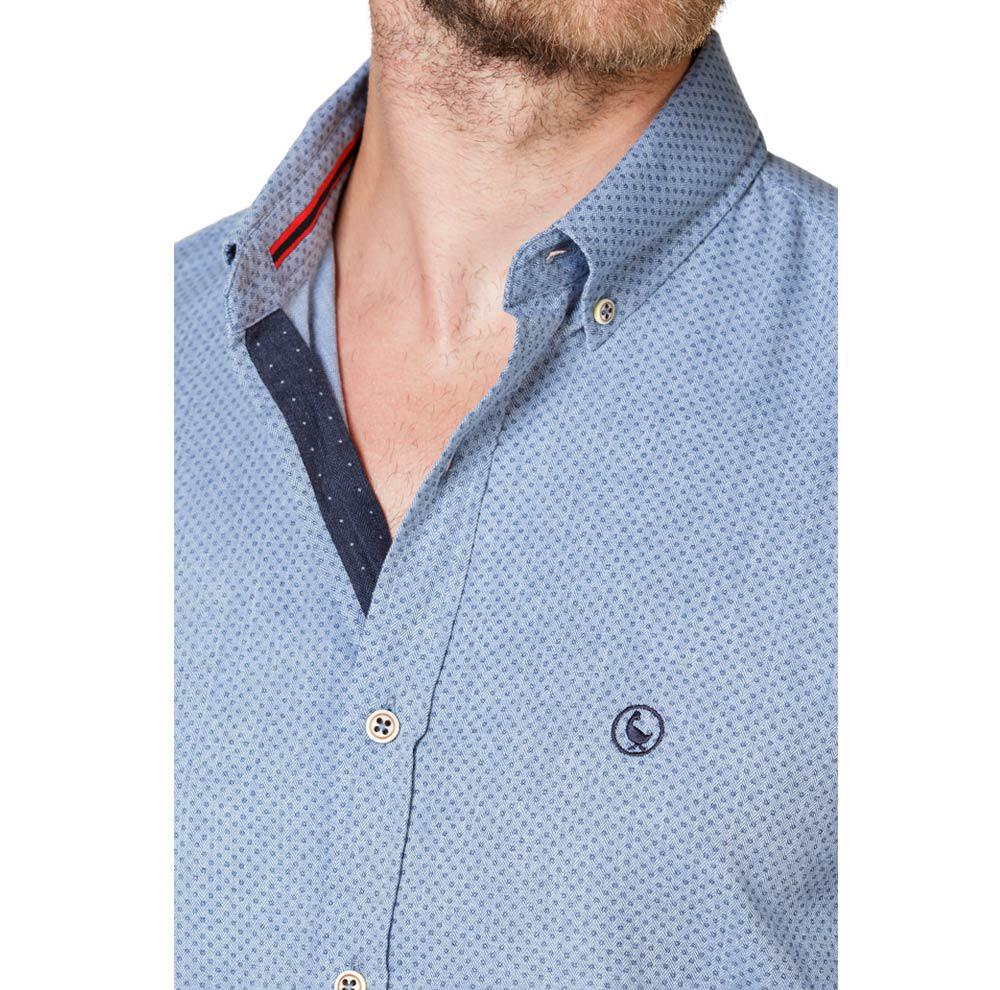teeshirt: (136, 105, 918, 987)
